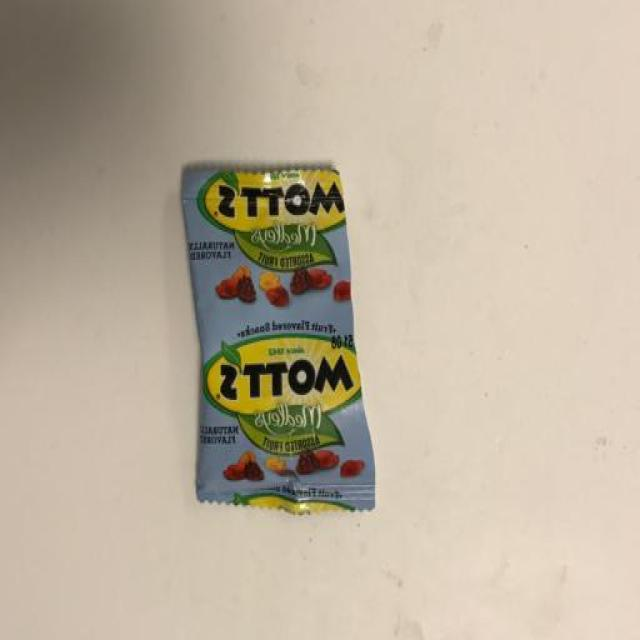Random Trash: (180, 162, 376, 518)
